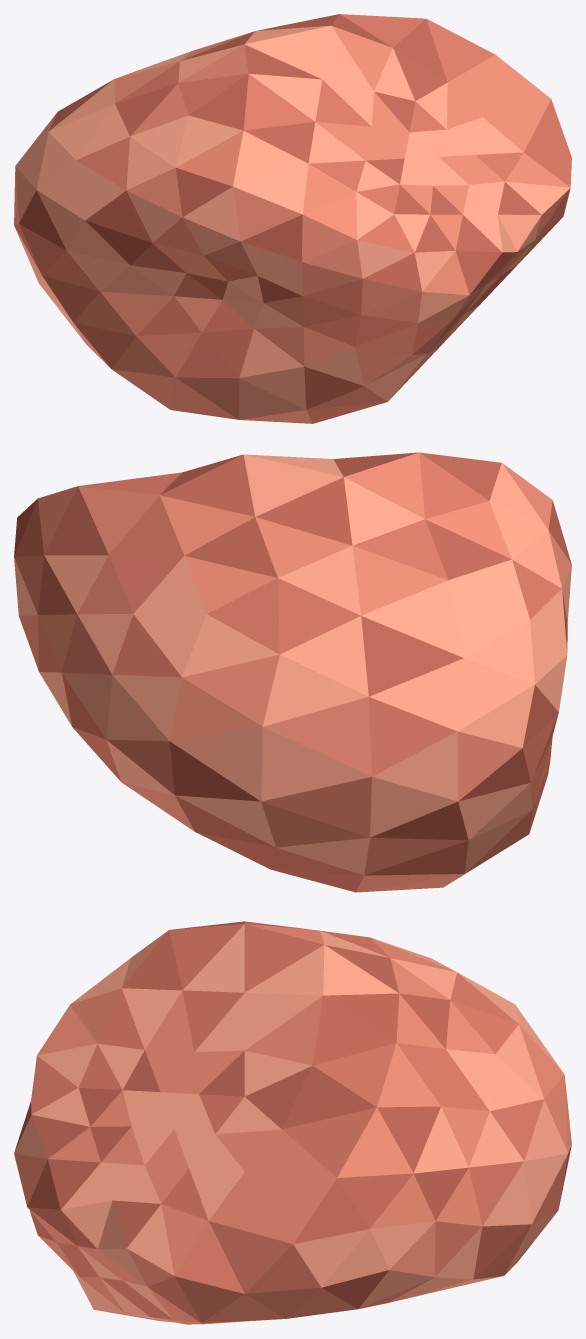
File: debris_clod.glb
3 views of the same model, one above another, from view 1: azimuth 30°, elevation 25°; view 2: azimuth 150°, elevation 25°; view 3: azimuth 270°, elevation 25° (orthographic). The views are drawn at different scales.
Parts seen in each view (by area): view 1: debris_clod; view 2: debris_clod; view 3: debris_clod.
Boxes of the visible parts, bbox=[...] form: debris_clod: bbox=[14, 14, 571, 423]; debris_clod: bbox=[14, 452, 571, 892]; debris_clod: bbox=[14, 921, 571, 1324].
Bounding box in the file's own units: 0.3199 × 0.2129 × 0.2774.
Materials: 1 (1 with a texture image).
